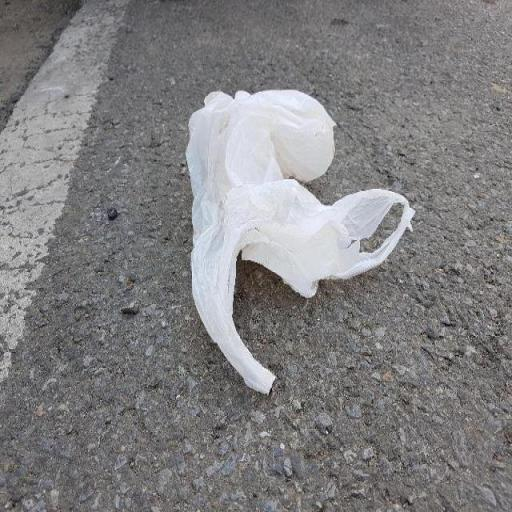plastic-bag: (184, 84, 418, 397)
